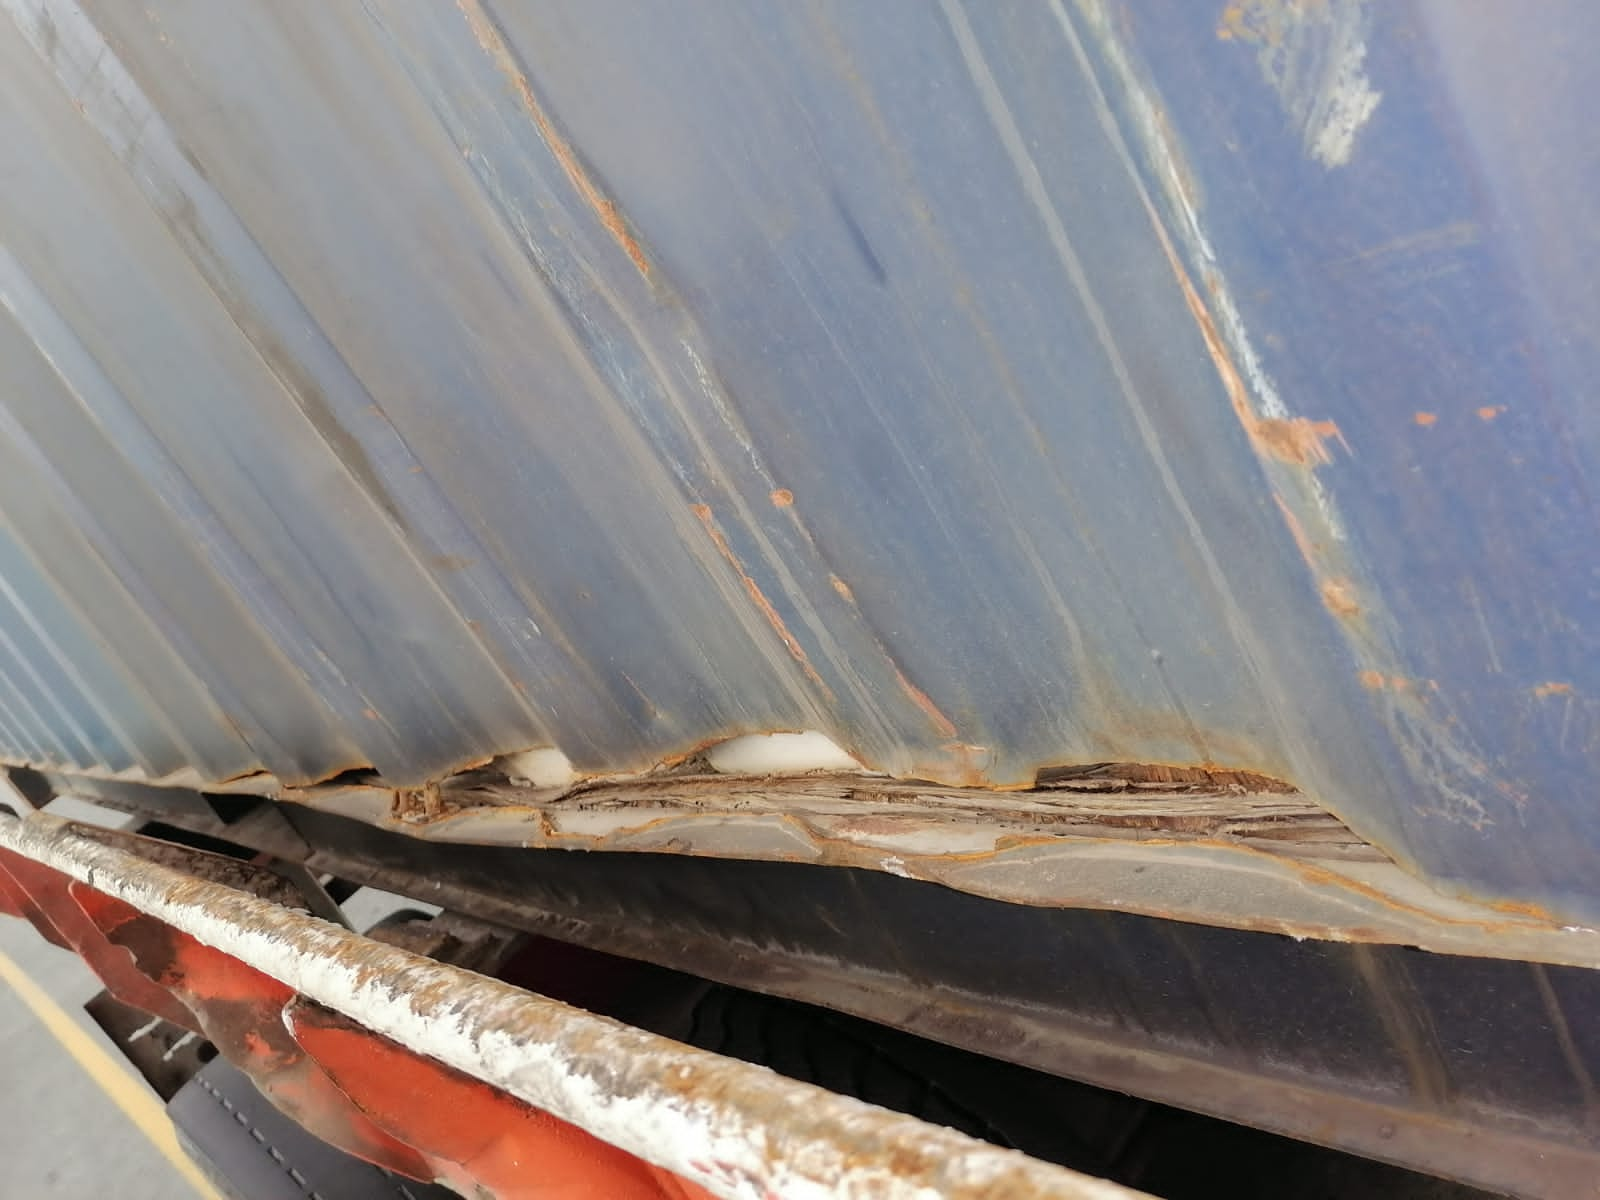cut: (209, 674, 1409, 886)
